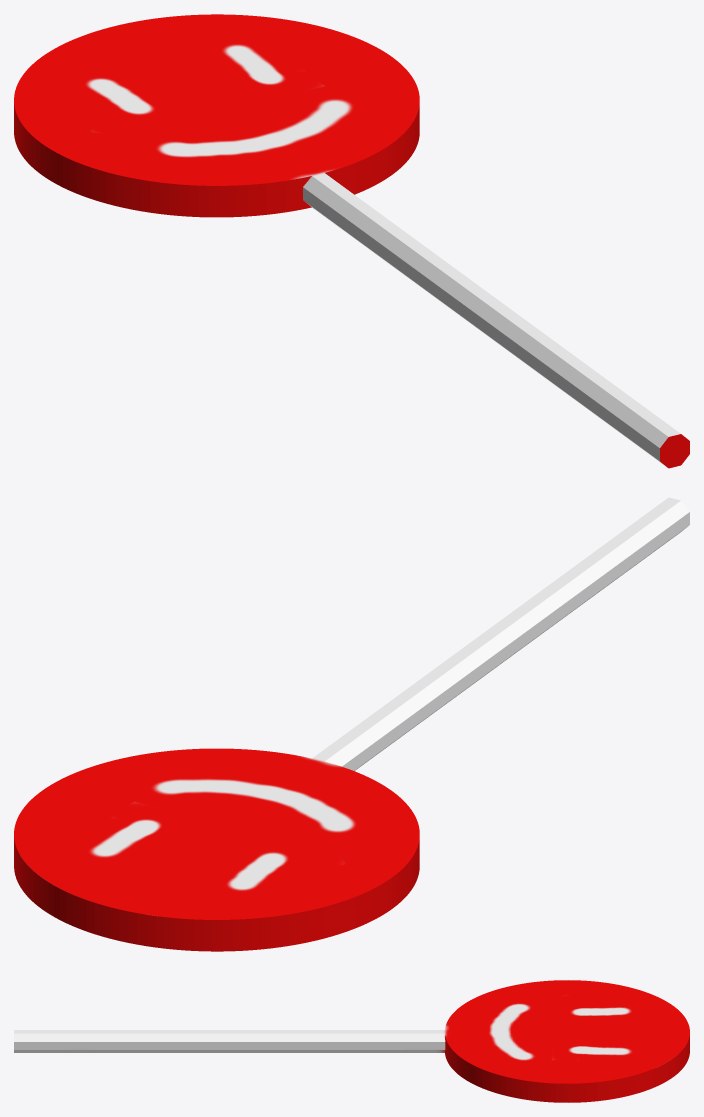
Rendered from smiley_arrow.dae.
3 renders of one model, top to bottom at view 1: azimuth 30°, elevation 25°; view 2: azimuth 150°, elevation 25°; view 3: azimuth 270°, elevation 25°, orthographic. The views are drawn at different scales.
Visible parts, largest first — view 1: Sign; view 2: Sign; view 3: Sign.
Boxes of the visible parts, box(x1,y1,x2,y2) form: Sign: box(14, 14, 689, 468); Sign: box(14, 497, 689, 951); Sign: box(14, 980, 689, 1102).
Size of the model in its own units: 35 by 96.49 by 3.
